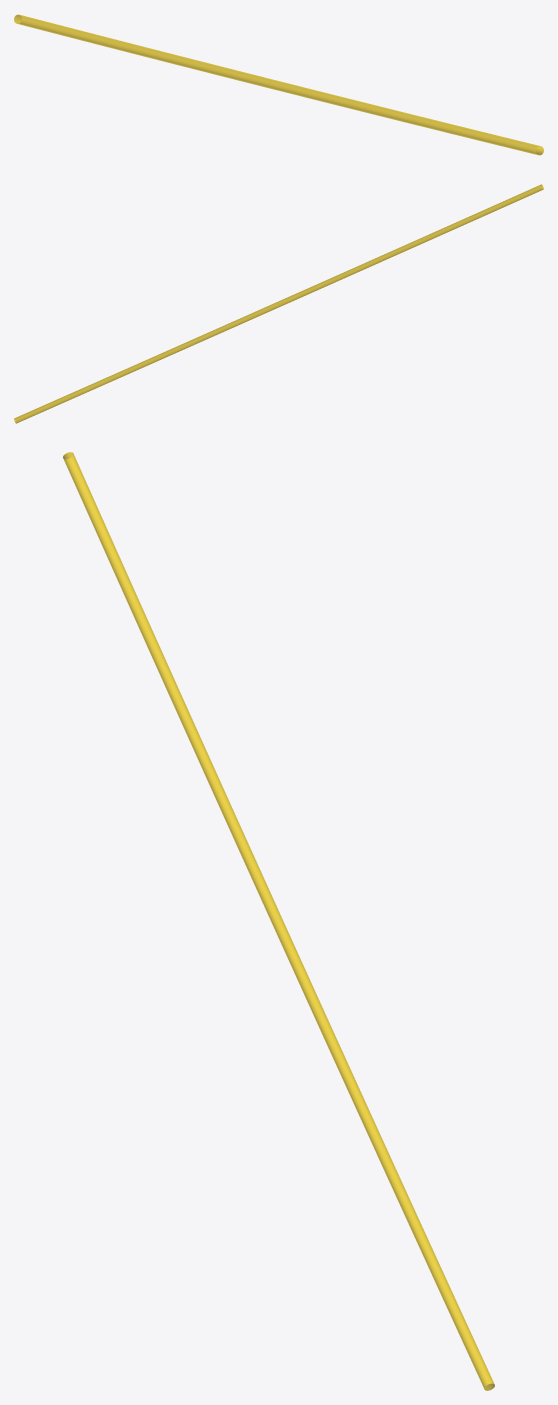
File: Event_100608114_track_1.fbx
3 views of the same model, one above another, from view 1: azimuth 30°, elevation 25°; view 2: azimuth 150°, elevation 25°; view 3: azimuth 270°, elevation 25° (orthographic). The views are drawn at different scales.
Visible parts, largest first — view 1: Model; view 2: Model; view 3: Model.
Boxes of the visible parts, x1,y1,x2,y2 form: Model: [14, 14, 543, 155]; Model: [14, 184, 543, 423]; Model: [63, 452, 494, 1390].
Bounding box in the file's own units: 3.42 × 2.03 × 1.51.
